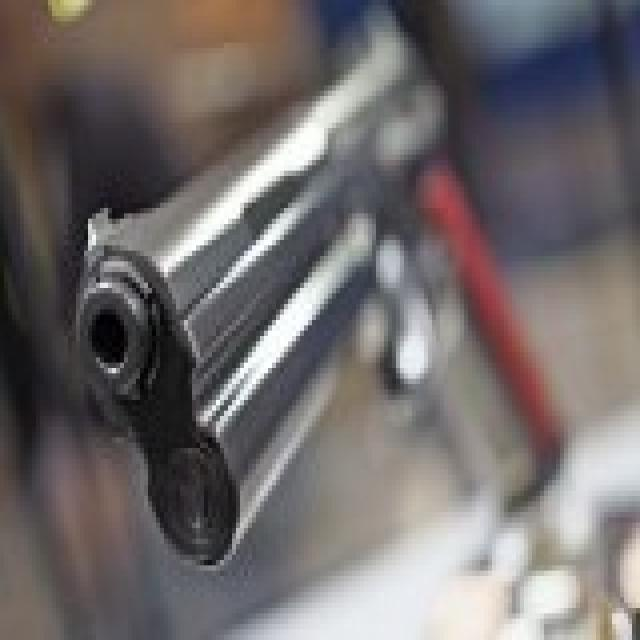Gun: (69, 69, 572, 574)
